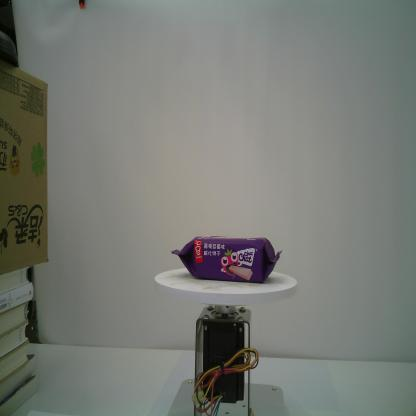Dessert: (171, 235, 282, 284)
